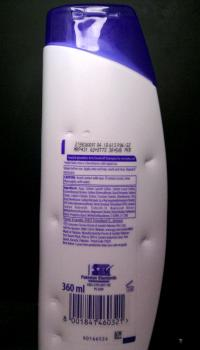dent_unacceptable: (142, 154, 156, 168), (49, 295, 63, 309), (139, 234, 152, 248), (51, 332, 66, 344), (49, 214, 60, 227), (80, 128, 93, 137), (64, 130, 76, 138)
